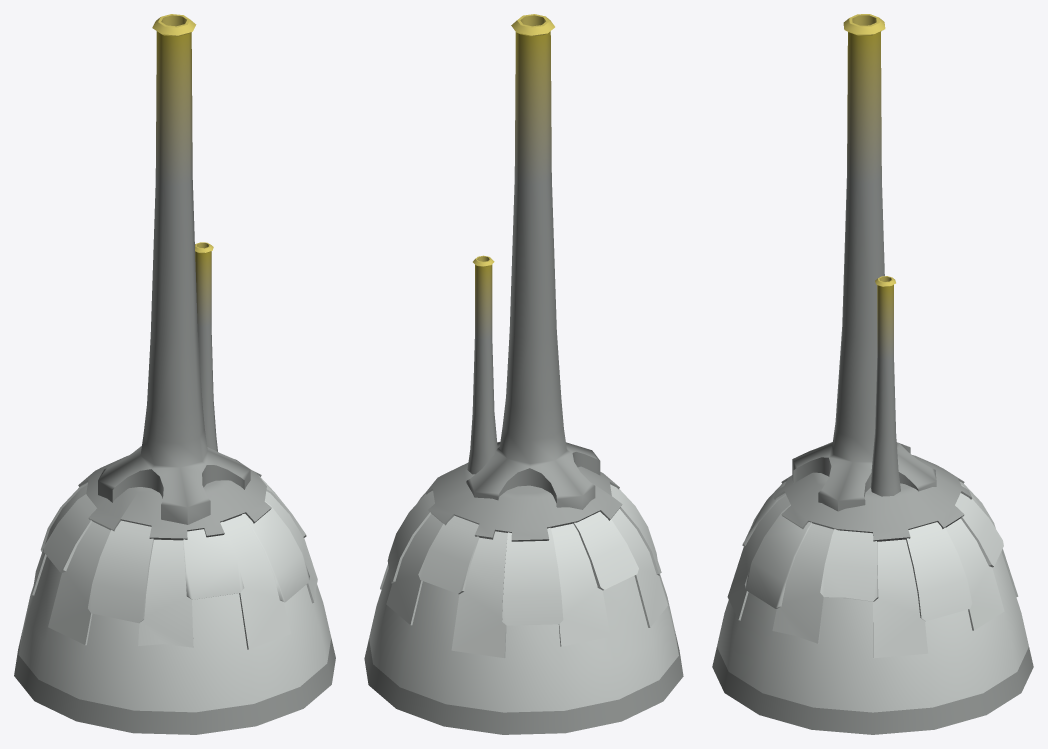
3 renders of one model, left to right at view 1: azimuth 30°, elevation 25°; view 2: azimuth 150°, elevation 25°; view 3: azimuth 270°, elevation 25°, orthographic.
Visible parts, largest first — view 1: G:\FFXIV-MapTools\exports\n4f2\bg\ex3\01_nvt_n4\fld\n4f2\bgp (×4); view 2: G:\FFXIV-MapTools\exports\n4f2\bg\ex3\01_nvt_n4\fld\n4f2\bgp (×4); view 3: G:\FFXIV-MapTools\exports\n4f2\bg\ex3\01_nvt_n4\fld\n4f2\bgp (×4).
Part boxes in pixels (x1,y1,x2,y2): G:\FFXIV-MapTools\exports\n4f2\bg\ex3\01_nvt_n4\fld\n4f2\bgp (×4): (14, 14, 335, 734); G:\FFXIV-MapTools\exports\n4f2\bg\ex3\01_nvt_n4\fld\n4f2\bgp (×4): (364, 14, 683, 734); G:\FFXIV-MapTools\exports\n4f2\bg\ex3\01_nvt_n4\fld\n4f2\bgp (×4): (712, 14, 1033, 734).
Bounding box in the file's own units: 7.5 × 16.58 × 7.5.
